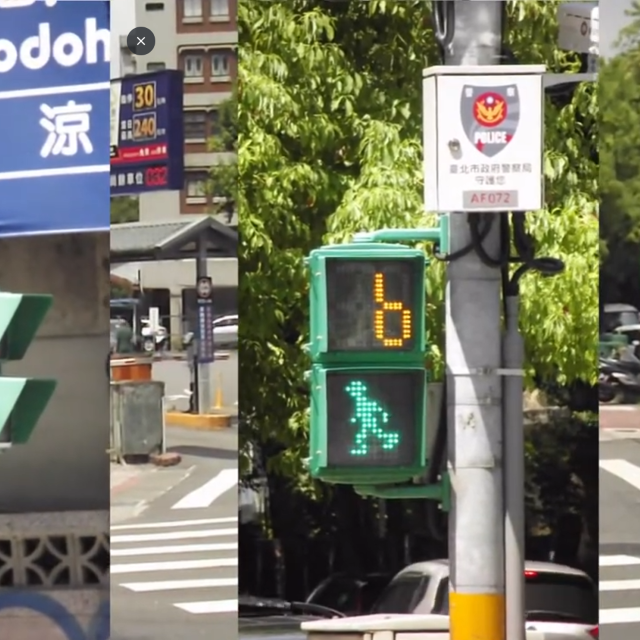green_light: (313, 254, 427, 475)
